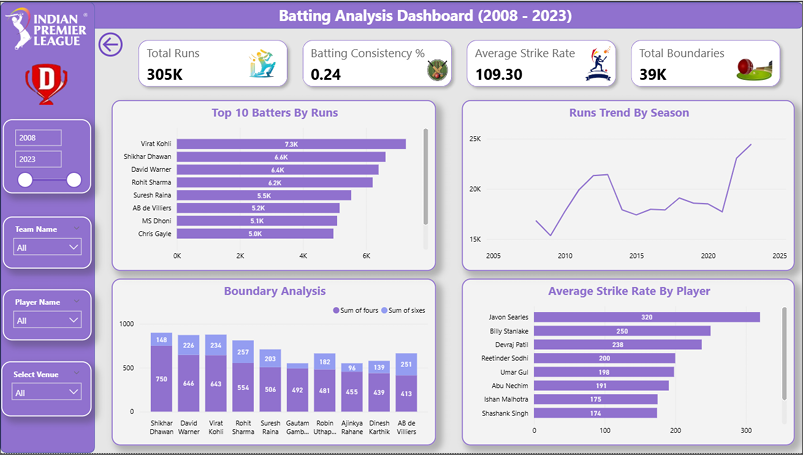

This screenshot's page, from the dashboard's own definition file:
{"tool":"powerbi","page":{"name":"Batting_Analysis","canvas":[1280,720],"ordinal":1},"visuals":[{"type":"group","id":"g1","title":"Group 1","box":[0,0,1280.3,42.8],"z":0},{"type":"cardVisual","fields":{"Data":["Fact_Batting.Total Runs","Fact_Batting.Batting Average","Fact_Batting.Average Strike Rate","Fact_Batting.Total Boundaries"]},"box":[202.5,44.2,1060.5,108.6],"z":0,"group":"g4"},{"type":"shape","title":"Dream 11","box":[0,0,150.6,719.8],"z":1000},{"type":"image","box":[366.4,61.9,101.6,73.9],"z":1000,"group":"g4"},{"type":"shape","title":"Dream 11","box":[0,0,1280.3,42.8],"z":2000,"group":"g1"},{"type":"actionButton","box":[150.4,42.8,52.6,50.1],"z":2000},{"type":"image","box":[903,55.7,100.3,86.3],"z":2000,"group":"g4"},{"type":"slicer","fields":{"Values":["Dim_Batting_Team.Team_Name"]},"box":[3.6,342,141.8,83.2],"z":2000,"group":"g2"},{"type":"image","box":[1163.5,77.9,76.8,54.2],"z":3000,"group":"g4"},{"type":"clusteredBarChart","title":"Top 10 Batters By Runs","fields":{"Category":["Dim_Player.Player_Name"],"Y":["Sum(Fact_Batting.runs)"]},"box":[177.8,156.8,517.3,272.8],"z":3000},{"type":"lineChart","title":"Runs Trend By Season","fields":{"Y":["Sum(Fact_Batting.runs)"],"Category":["Dim_Match.Match Hierarchy.season"]},"box":[735.8,156.8,530.9,272.8],"z":4000},{"type":"slicer","fields":{"Values":["Dim_Match.venue"]},"box":[1.2,573.1,144.3,88],"z":4000,"group":"g2"},{"type":"clusteredBarChart","title":"Average Strike Rate By Player","fields":{"Category":["Dim_Player.Player_Name"],"Y":["Fact_Batting.Average Strike Rate"]},"box":[735.8,442,530.9,266.7],"z":5000},{"type":"columnChart","title":"Boundary Analysis","fields":{"Category":["Dim_Player.Player_Name"],"Y":["Sum(Fact_Batting.fours)","Sum(Fact_Batting.sixes)"]},"box":[177.8,442,517.3,266.7],"z":6000},{"type":"slicer","fields":{"Values":["Dim_Player.Player_Name"]},"box":[3.6,458.2,141.8,81.9],"z":6000,"group":"g2"},{"type":"image","box":[0,0,143.8,85],"z":7000},{"type":"group","id":"g2","title":"Group 5","box":[1.2,342,144.4,318.5],"z":8000},{"type":"image","box":[25.7,92.9,94.2,75.8],"z":9000},{"type":"textbox","box":[420.7,0,514.8,42.8],"z":10000},{"type":"group","id":"g3","title":"Group 3","box":[202.5,44.2,1060.5,108.6],"z":11000},{"type":"group","id":"g4","title":"Group 2","box":[202.5,44.2,1060.5,108.6],"z":12000,"group":"g3"},{"type":"slicer","fields":{"Values":["Dim_Match.season"]},"box":[3.7,187.7,140.7,118.5],"z":12000},{"type":"image","box":[648.1,86.4,98.8,44.4],"z":13000,"group":"g3"}]}

Visuals, with their boxes in screenshot pixels (x1, y1, x2, y2), scaled from the page's 1280x720 canvas onto the 803x455 screenshot:
"Group 1" group: 0, 0, 802, 27
cardVisual - Fact_Batting.Total Runs x Fact_Batting.Batting Average: 127, 28, 792, 97
"Dream 11" shape: 0, 0, 94, 454
image: 230, 39, 294, 86
"Dream 11" shape: 0, 0, 802, 27
actionButton: 94, 27, 127, 59
image: 566, 35, 629, 90
slicer - Dim_Batting_Team.Team_Name: 2, 216, 91, 269
image: 730, 49, 778, 83
"Top 10 Batters By Runs" clusteredBarChart: 112, 99, 436, 271
"Runs Trend By Season" lineChart: 462, 99, 795, 271
slicer - Dim_Match.venue: 1, 362, 91, 418
"Average Strike Rate By Player" clusteredBarChart: 462, 279, 795, 448
"Boundary Analysis" columnChart: 112, 279, 436, 448
slicer - Dim_Player.Player_Name: 2, 290, 91, 341
image: 0, 0, 90, 54
"Group 5" group: 1, 216, 91, 417
image: 16, 59, 75, 107
textbox: 264, 0, 587, 27
"Group 3" group: 127, 28, 792, 97
"Group 2" group: 127, 28, 792, 97
slicer - Dim_Match.season: 2, 119, 91, 194
image: 407, 55, 469, 83
